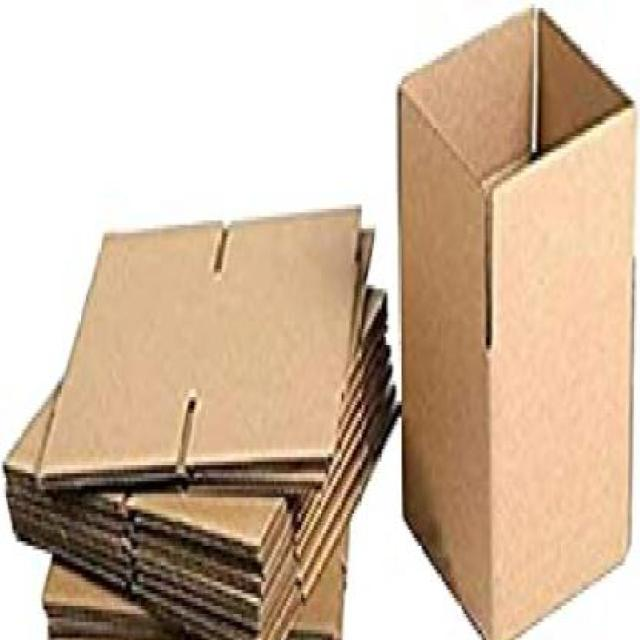box: (5, 201, 403, 640), (392, 0, 638, 640)
